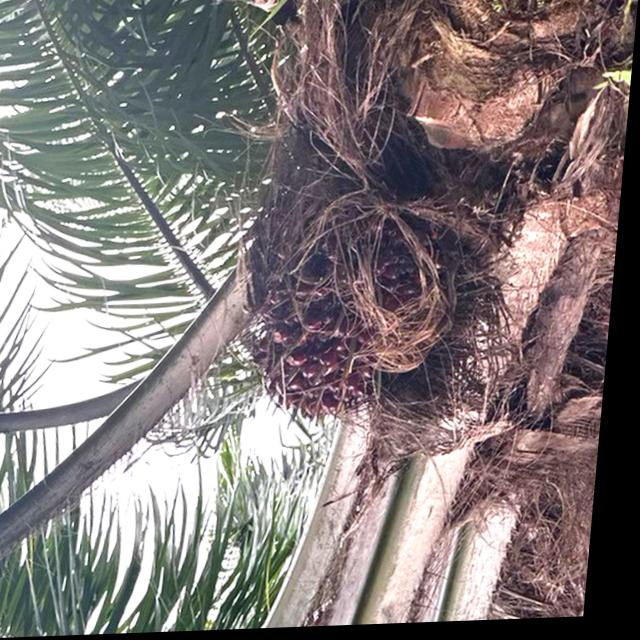ripe: (228, 191, 472, 440)
